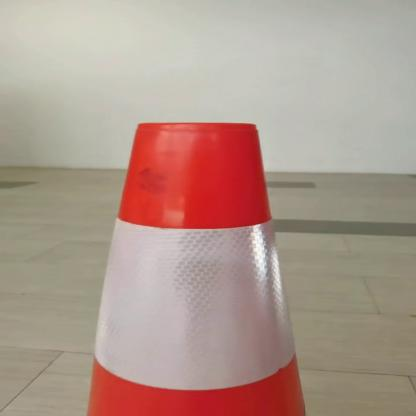cone: (62, 105, 368, 416)
